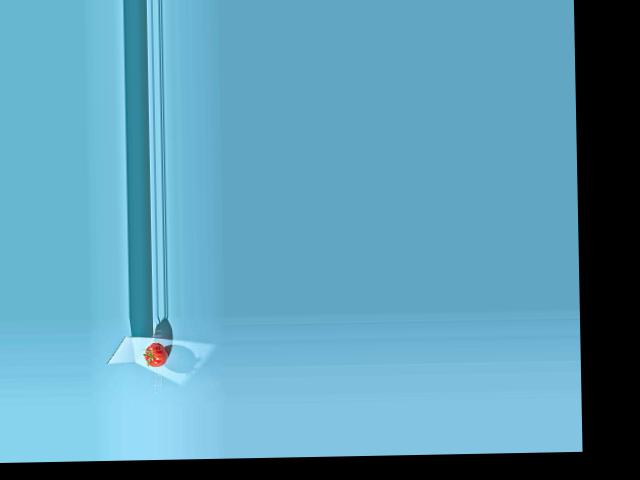tomato: (144, 341, 167, 367)
